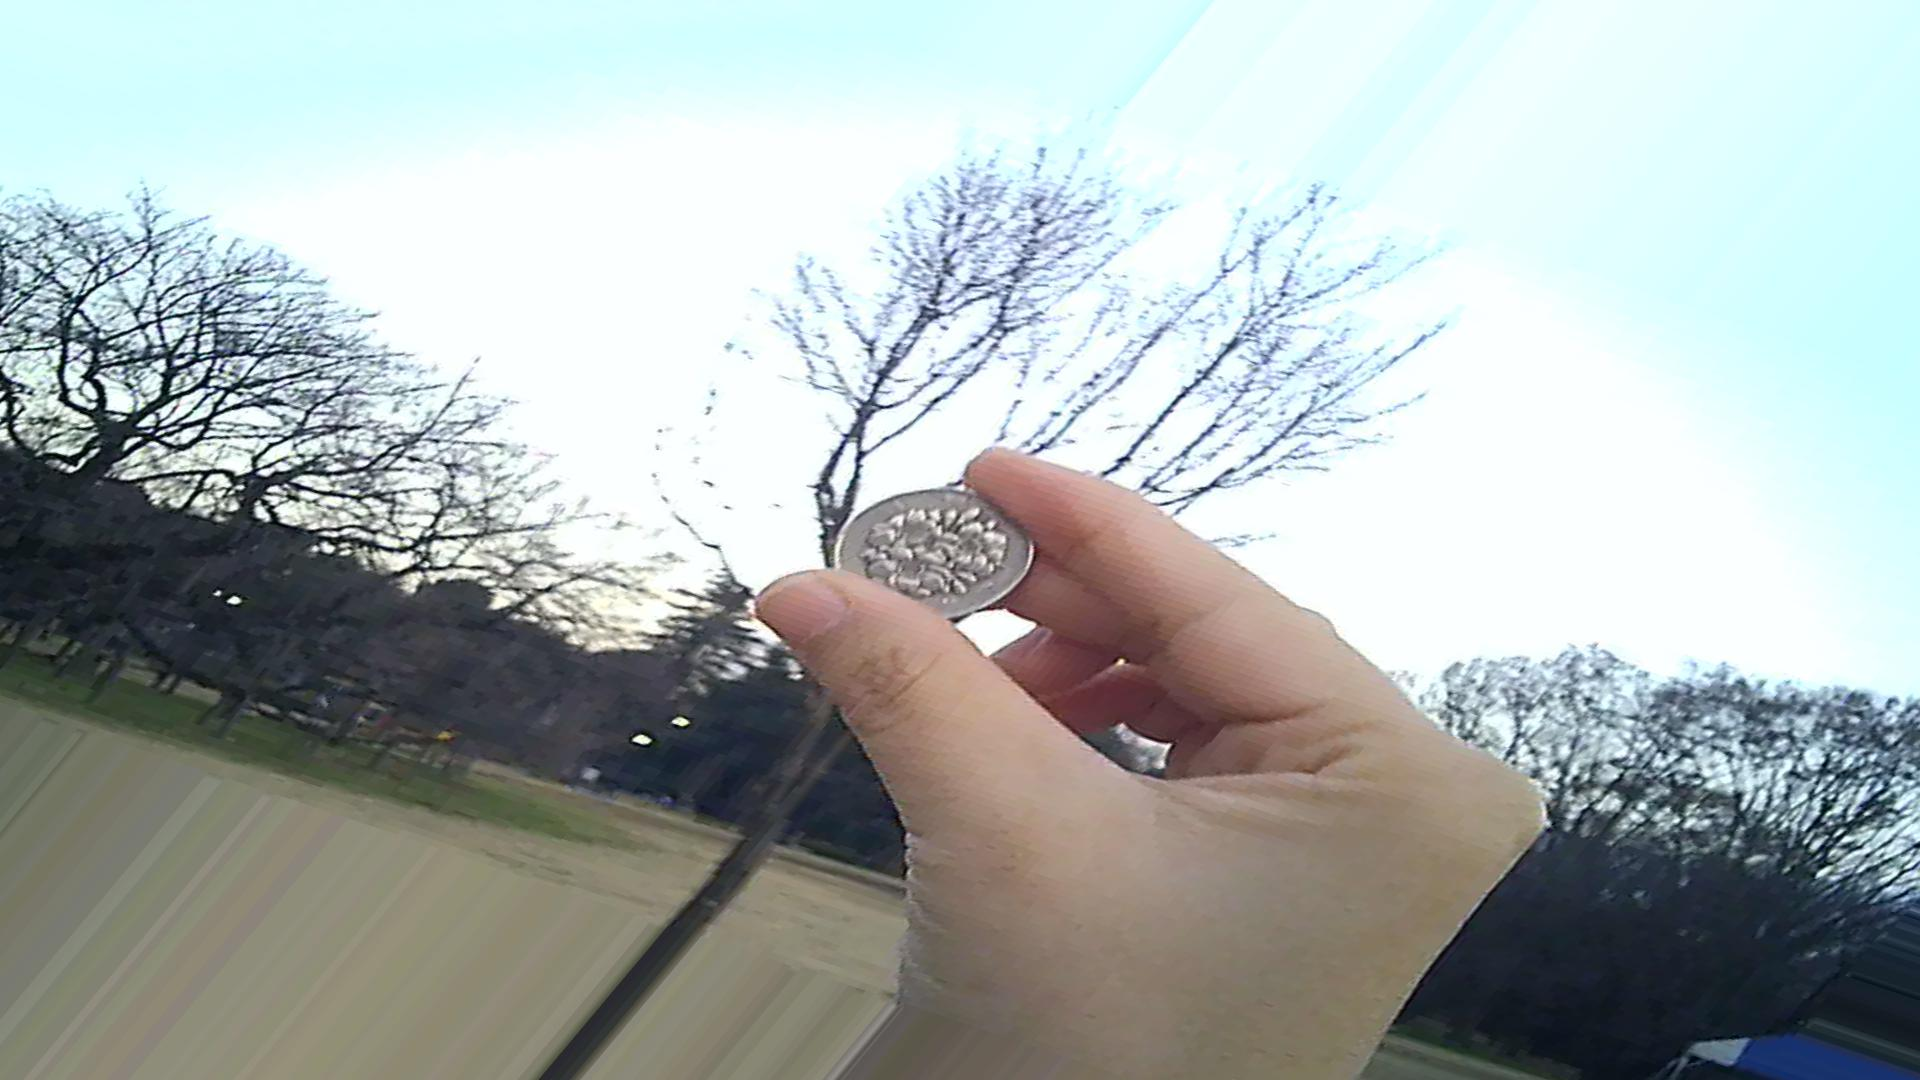100 Yen: (833, 476, 1036, 611)
